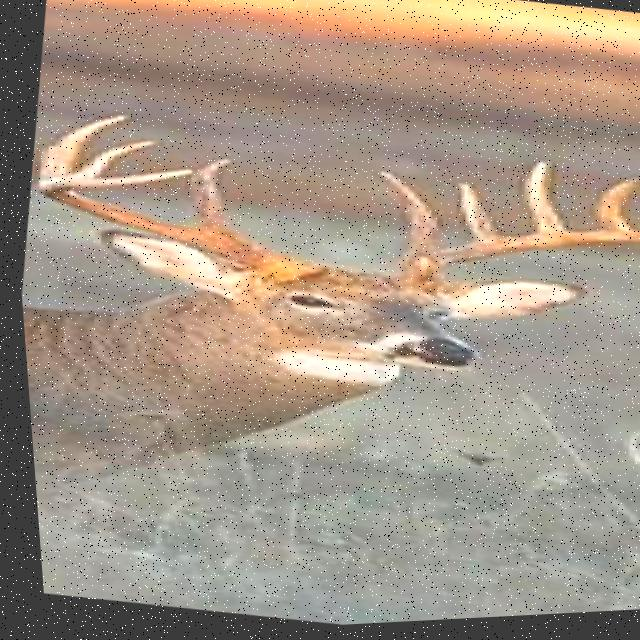L-F: (33, 167, 313, 285)
L-G1: (184, 158, 236, 240)
L-G2: (34, 110, 133, 181)
L-G3: (71, 138, 162, 176)
R-F: (387, 239, 640, 301)
R-G1: (375, 171, 440, 265)
R-G2: (451, 184, 500, 247)
R-G3: (513, 163, 569, 240)
R-G4: (584, 182, 640, 238)
